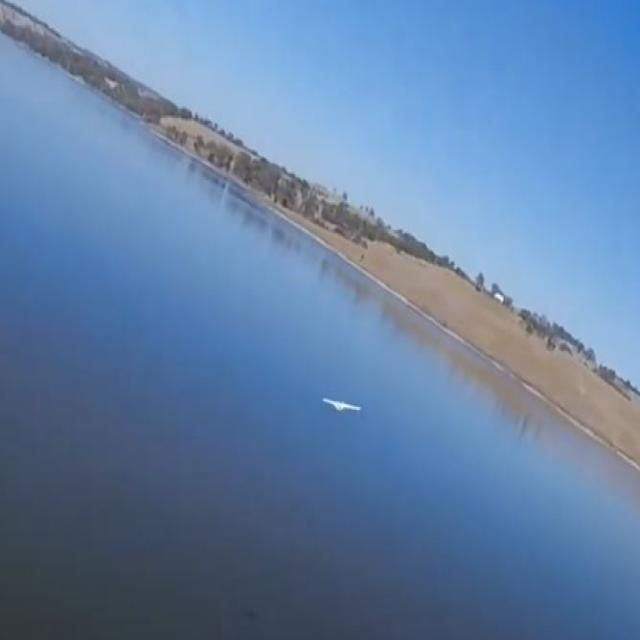iha: (322, 396, 361, 417)
